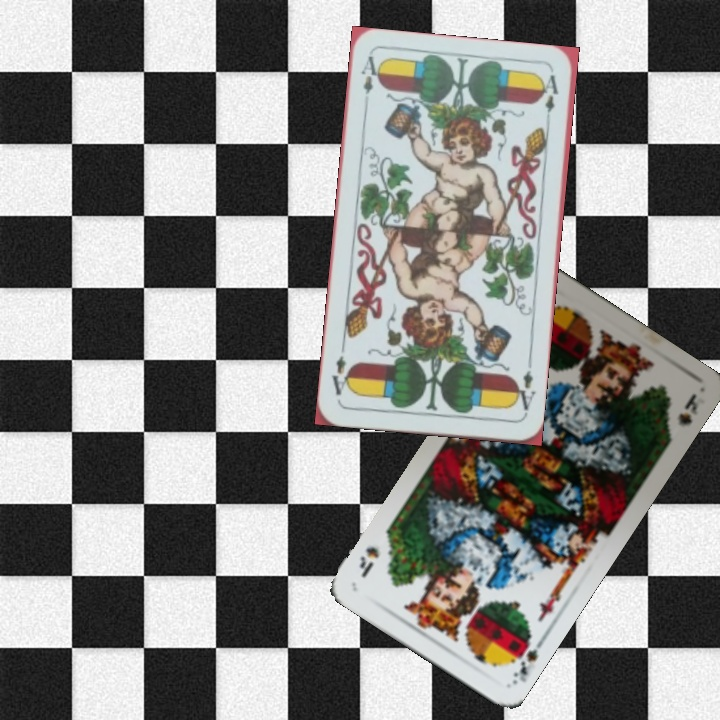EA: (510, 359, 538, 418), (356, 52, 383, 111)
SK: (506, 627, 547, 687)
